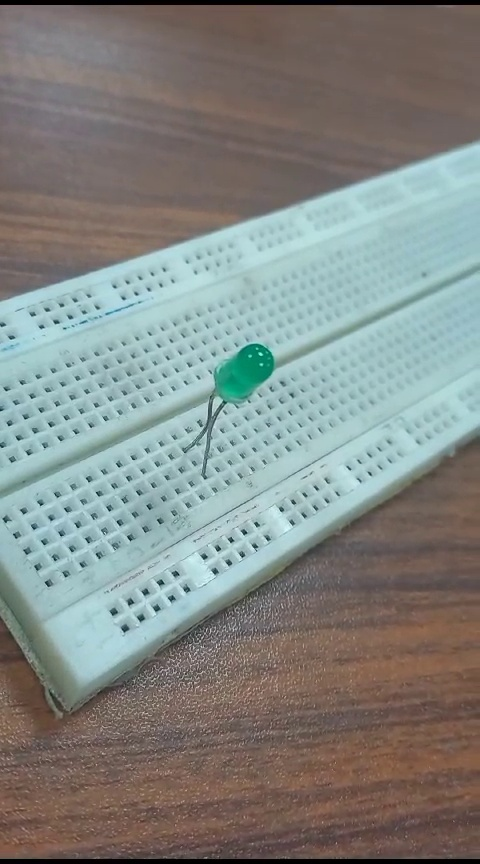LED: (194, 337, 271, 483)
